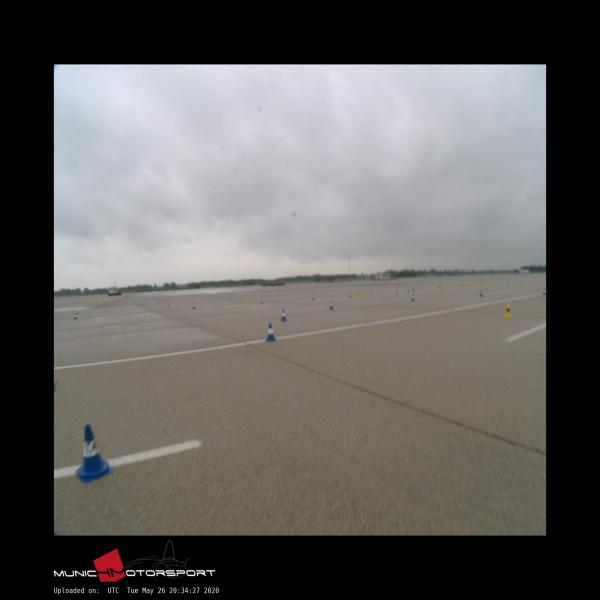blue_cone: (76, 424, 112, 482), (264, 323, 276, 340), (280, 309, 286, 320), (329, 301, 334, 309), (411, 293, 415, 301)
yellow_cone: (504, 303, 511, 318)
